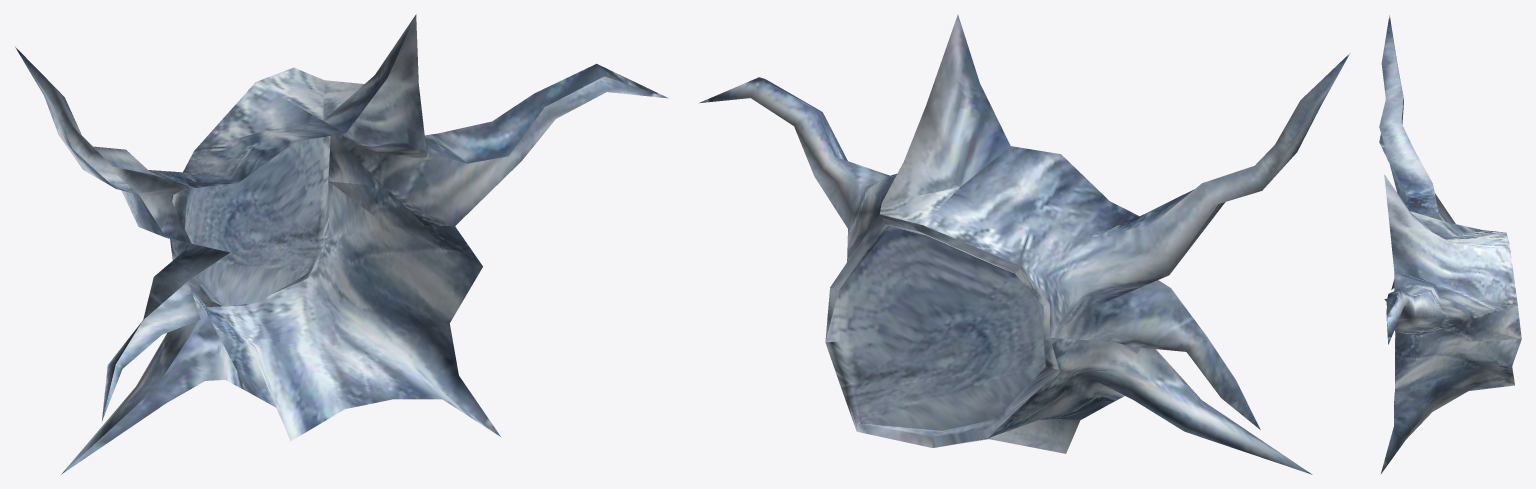
3 renders of one model, left to right at view 1: azimuth 30°, elevation 25°; view 2: azimuth 150°, elevation 25°; view 3: azimuth 270°, elevation 25°, orthographic. The views are drawn at different scales.
Parts seen in each view (by area): view 1: Object04; view 2: Object04; view 3: Object04.
Boxes of the visible parts, x1=… form: Object04: x1=15, y1=14, x2=668, y2=474; Object04: x1=699, y1=14, x2=1350, y2=474; Object04: x1=1379, y1=15, x2=1521, y2=474.
Size of the model in its own units: 31931 by 23486 by 9648.
